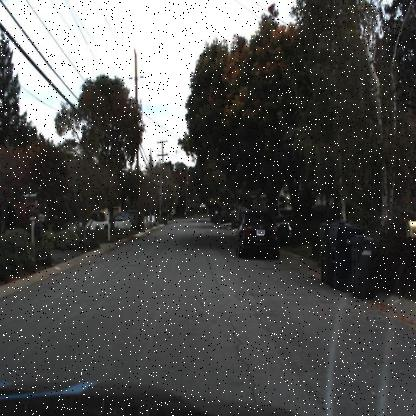car: (232, 206, 282, 264), (235, 209, 280, 264)
